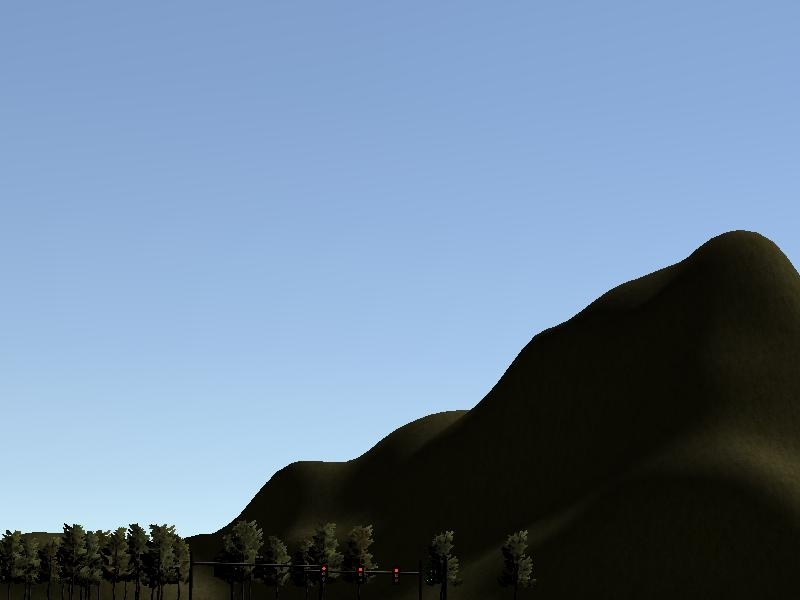RED: (390, 565, 400, 588), (319, 563, 329, 585), (355, 565, 364, 587)
